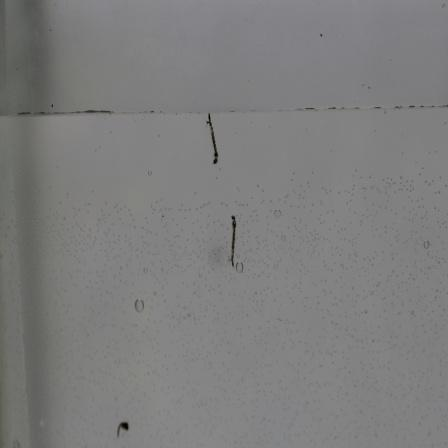Jentik-Nyamuk: (203, 111, 221, 168), (228, 211, 241, 271), (115, 417, 132, 442)
